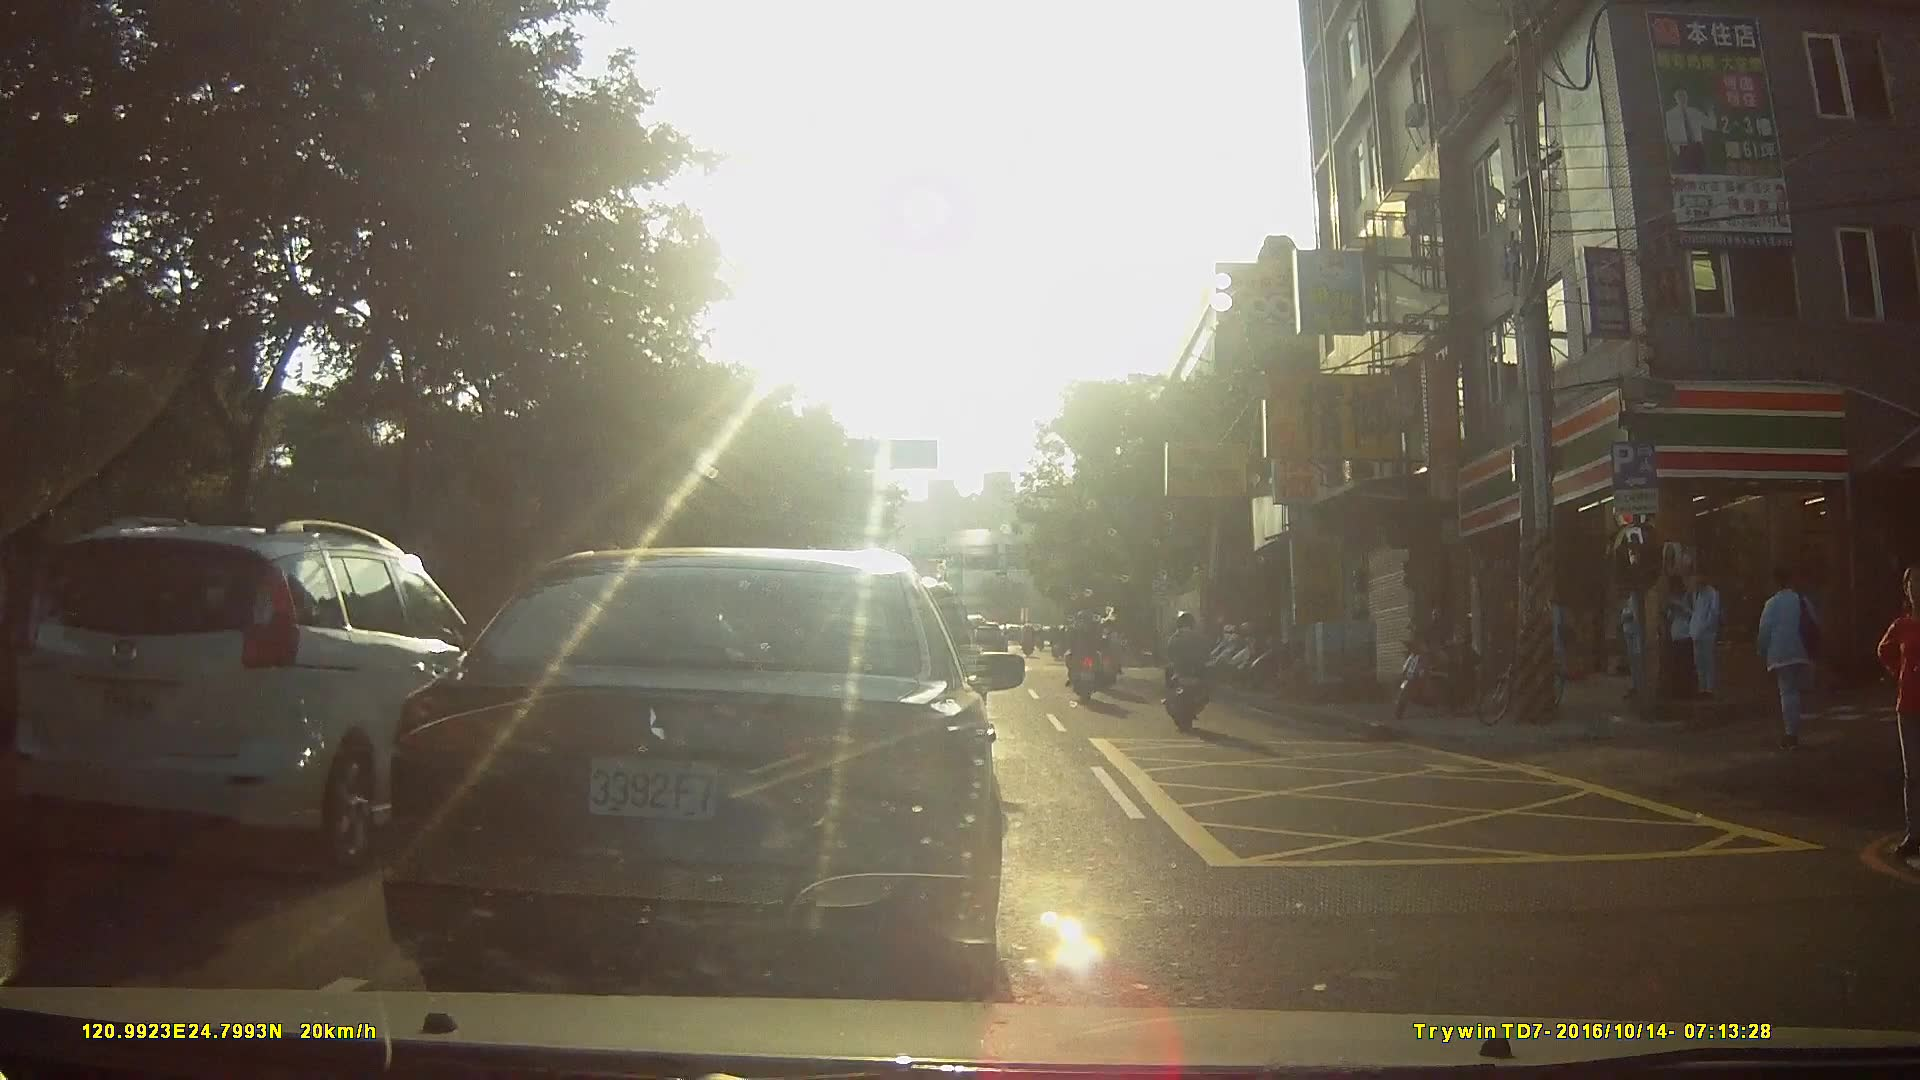pedestrian: (1760, 570, 1828, 757), (1876, 567, 1920, 854), (1680, 569, 1723, 702), (1614, 573, 1655, 708), (1661, 567, 1699, 711)
rider: (1161, 611, 1219, 735), (1064, 611, 1112, 708), (1050, 623, 1070, 662), (1020, 626, 1040, 660)
vehicle: (373, 546, 1035, 983), (31, 499, 490, 893)
